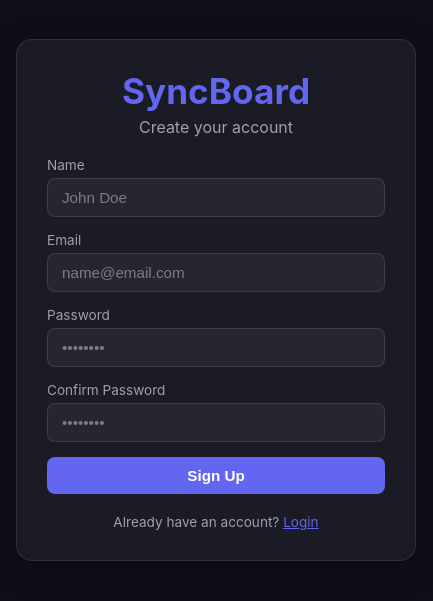
Scenario: SignUp Page › shows error when registration fails
Type "Test User" into the field with placeholder "John Doe" at {"x": 216, "y": 198}, box [47, 178, 385, 217]
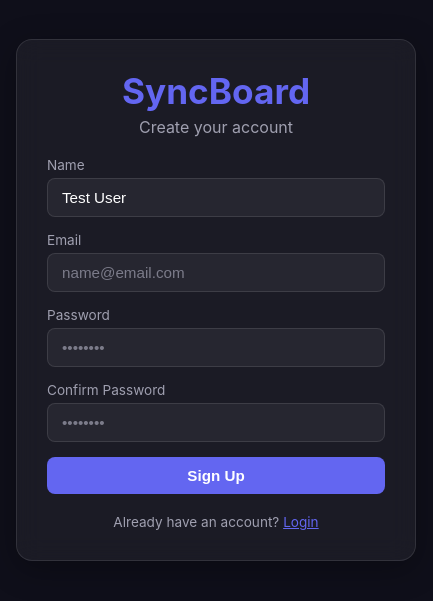
Type "test@example.com" into the field with placeholder "name@email.com" at {"x": 216, "y": 272}, box [47, 253, 385, 292]
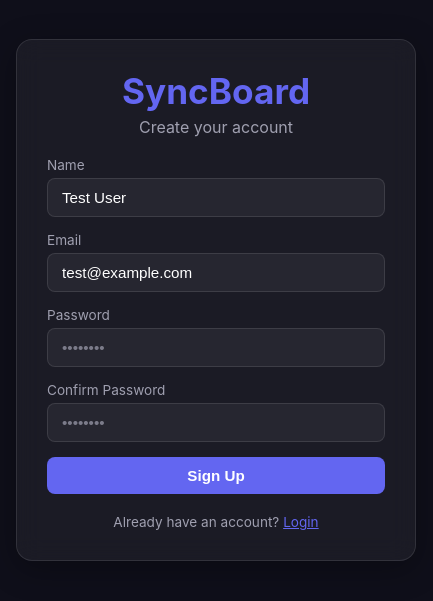
Type "password123" into the 1st password field with placeholder "••••••••" at {"x": 216, "y": 348}, box [47, 328, 385, 367]
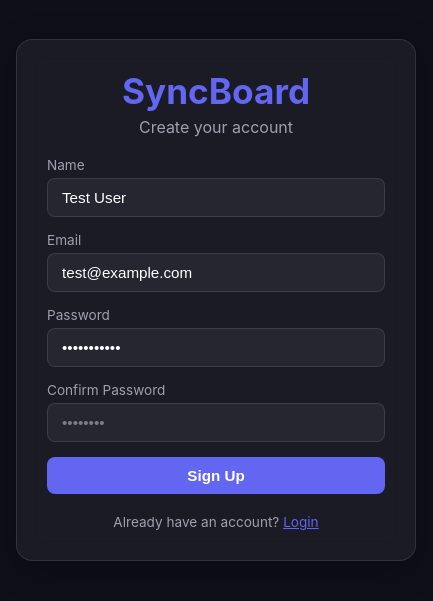
Type "password123" into the password field with placeholder "••••••••" at {"x": 216, "y": 422}, box [47, 403, 385, 442]
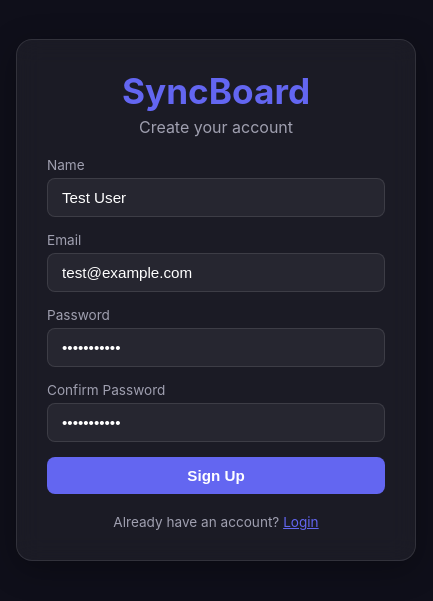
Click the button "Sign Up" at {"x": 216, "y": 476}, box [47, 457, 385, 494]
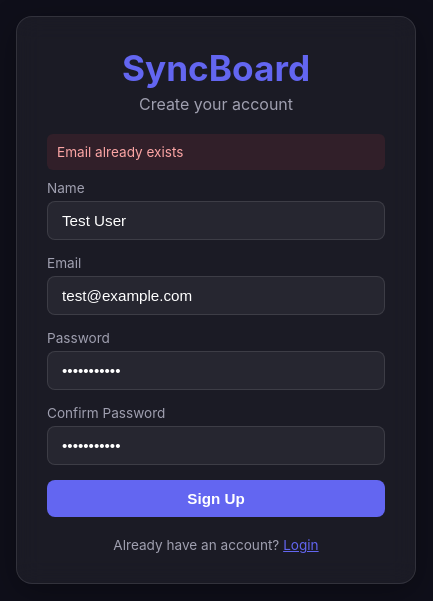
Expected: the text "Email already exists" is shown, [47, 134, 385, 170]
